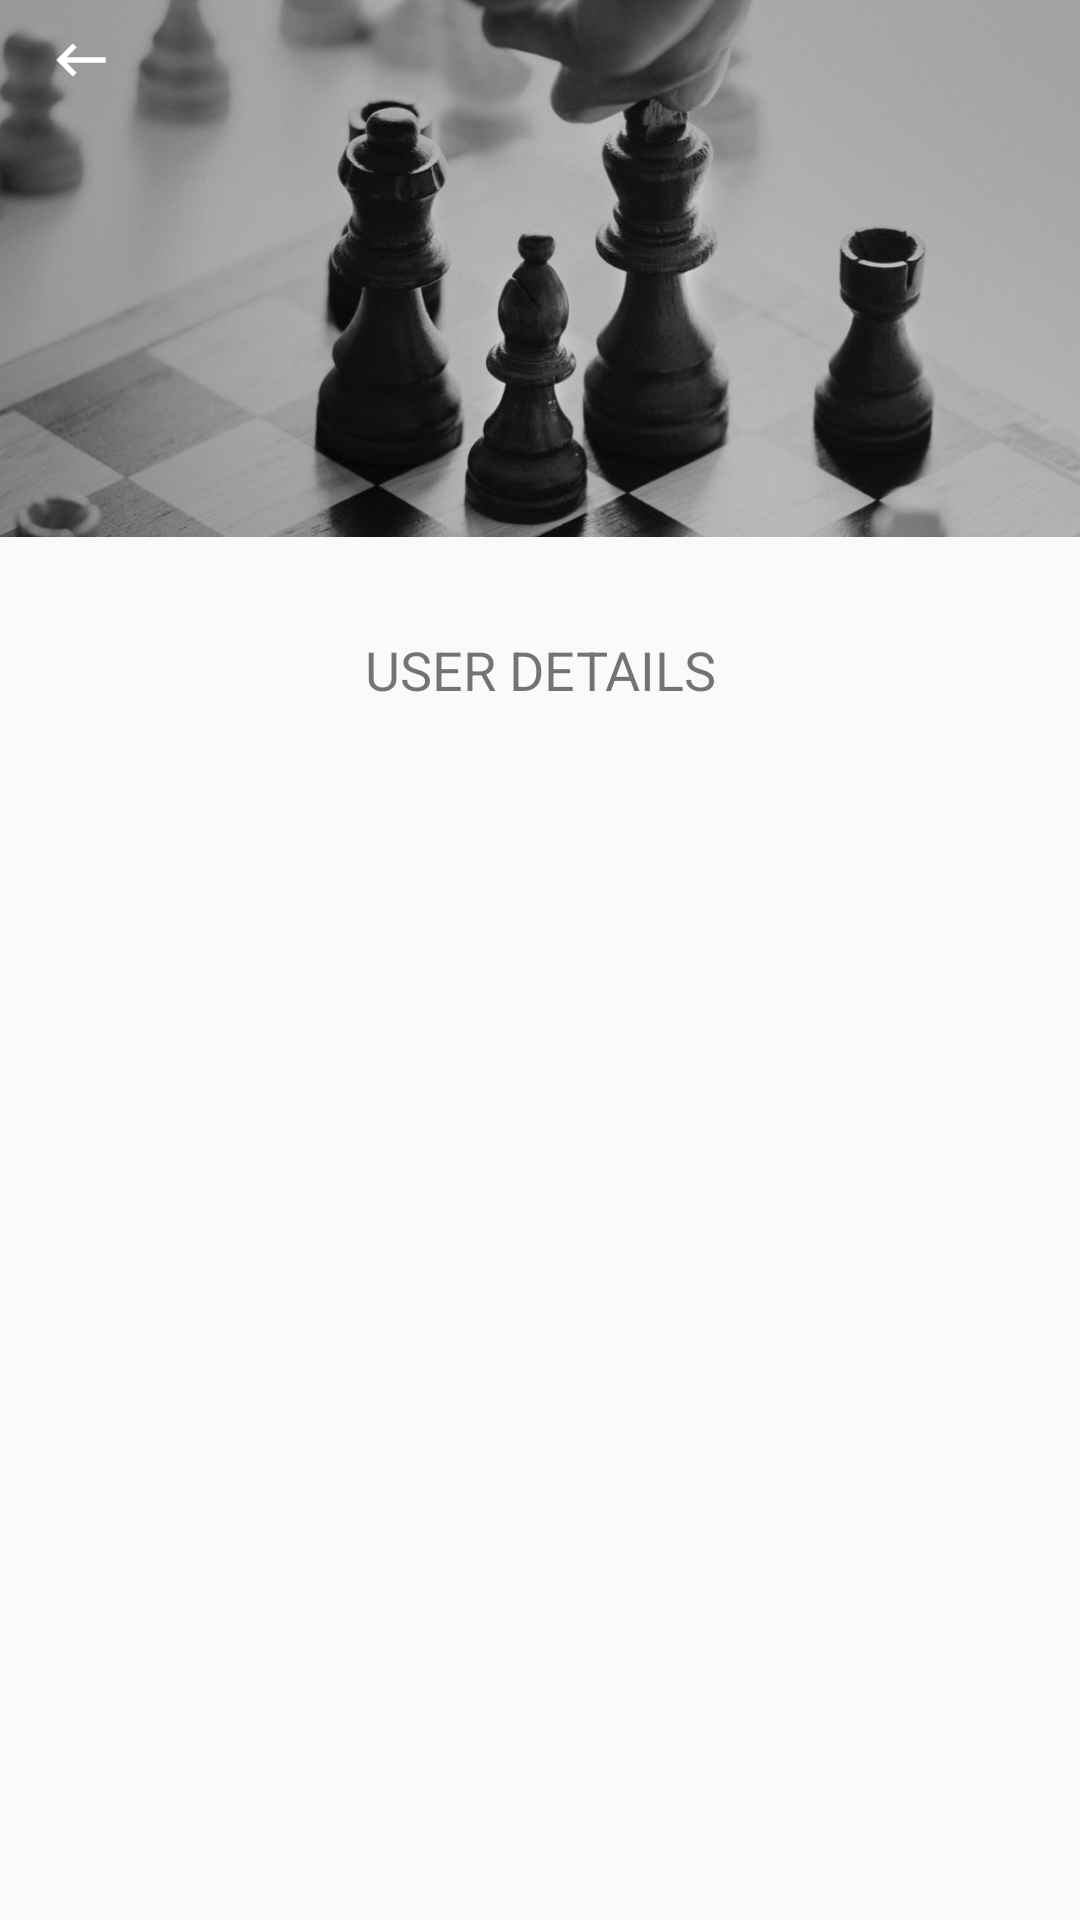

Named icons in this screenshot (1080 × 1920) and their bounding boxes, (x1, y1, x2, y2):
back: (45, 40, 106, 96)
